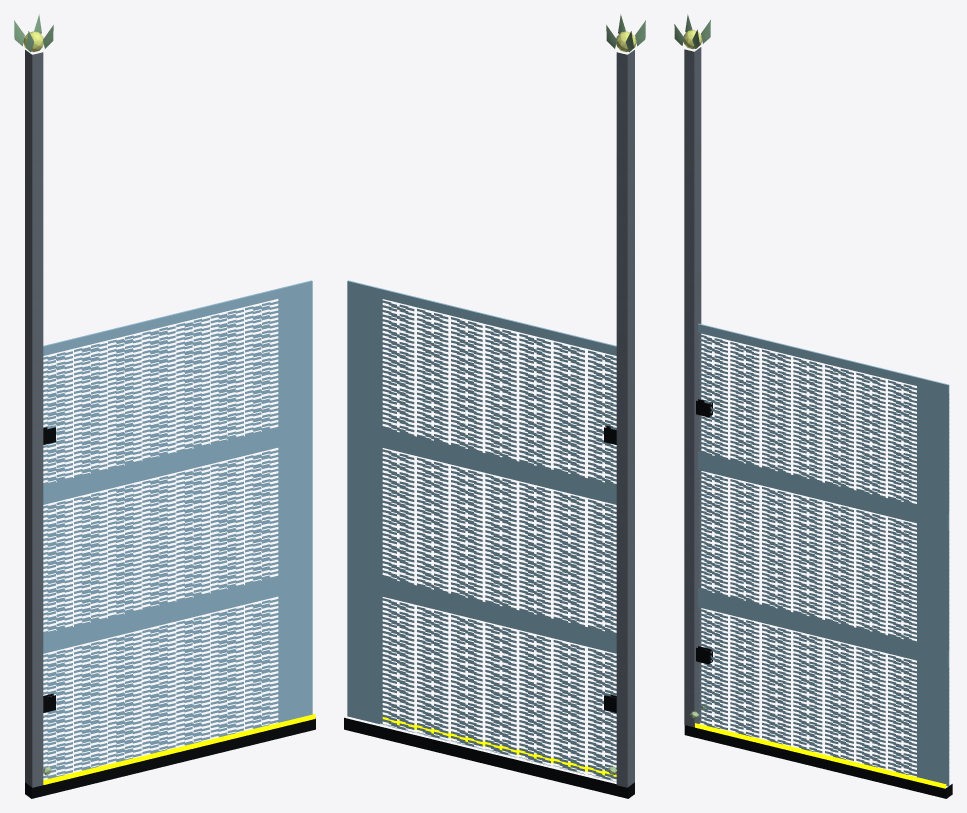
Rendered from tt_court_partition.glb.
3 views of the same model, side by side, from view 1: azimuth 30°, elevation 25°; view 2: azimuth 150°, elevation 25°; view 3: azimuth 330°, elevation 25° (orthographic). The views are drawn at different scales.
Parts seen in each view (by area): view 1: Court_Pane_Scissor, Post_Steel, Floor_Channel, Court_Line_LED; view 2: Court_Pane_Scissor, Post_Steel, Floor_Channel, Court_Line_LED; view 3: Court_Pane_Scissor, Post_Steel, Floor_Channel, Court_Line_LED, Pane_Clamps.
Part boxes in pixels (x1,y1,x2,y2): Court_Pane_Scissor: [43, 280, 312, 778]; Post_Steel: [25, 50, 43, 787]; Floor_Channel: [25, 718, 315, 798]; Court_Line_LED: [43, 714, 315, 784]; Court_Pane_Scissor: [347, 280, 616, 781]; Post_Steel: [616, 50, 634, 787]; Floor_Channel: [344, 717, 634, 798]; Court_Line_LED: [382, 717, 616, 776]; Court_Pane_Scissor: [698, 323, 949, 786]; Post_Steel: [684, 47, 701, 727]; Floor_Channel: [684, 725, 952, 798]; Court_Line_LED: [695, 723, 946, 788]; Pane_Clamps: [696, 399, 712, 664].
Size of what is drawn, in the model's own units: 2.06 by 5.19 by 0.1922.
Materials: 7 (3 with a texture image).
